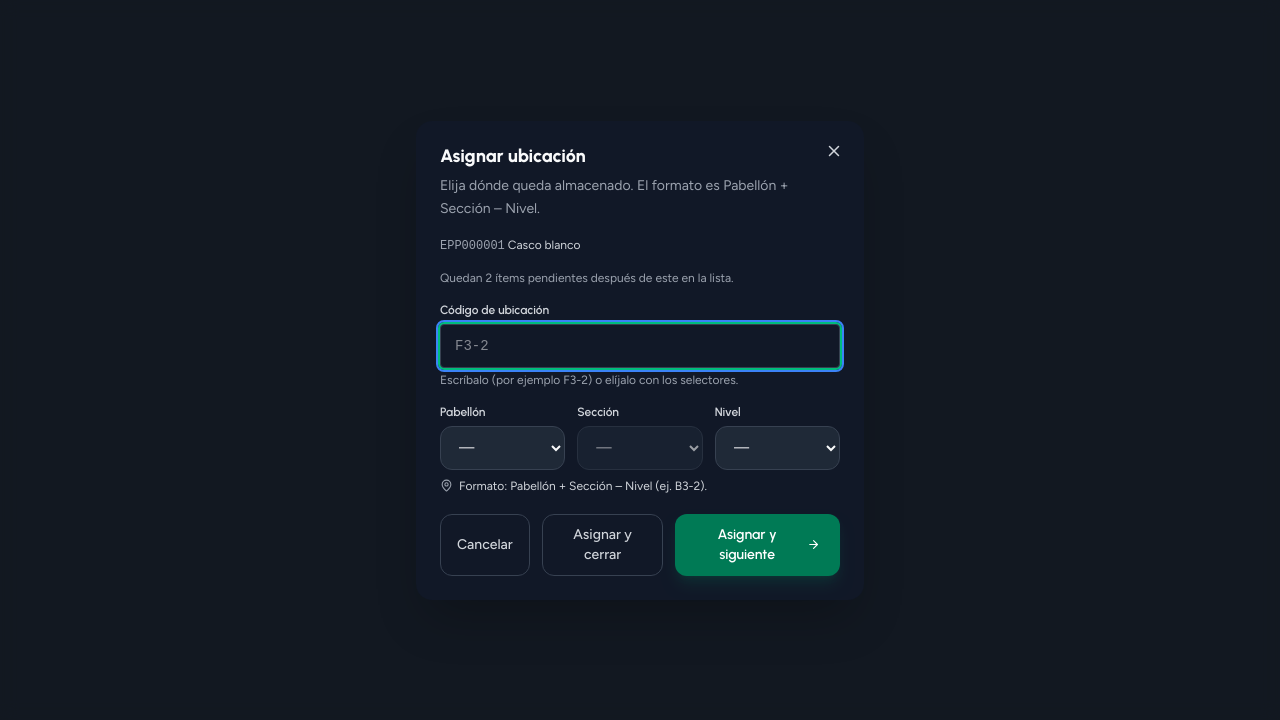
Test: AssignLocationModal — escribir el código › un código completo pero inexistente (Z3-2) sí se avisa
Type "Z3-2" into the field labelled "Código de ubicación" at x=640, y=346, box [440,324,840,368]
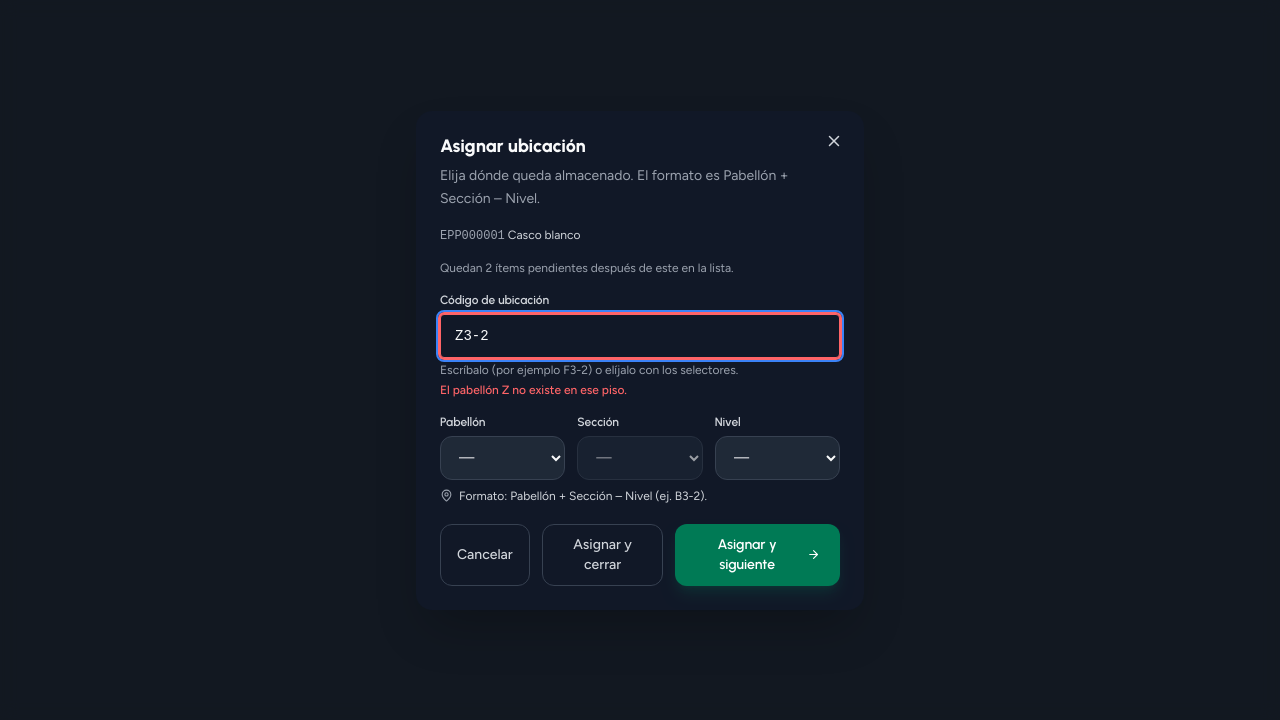
Check: the text "El pabellón Z no existe en ese piso." is shown, box [440,382,627,396]
